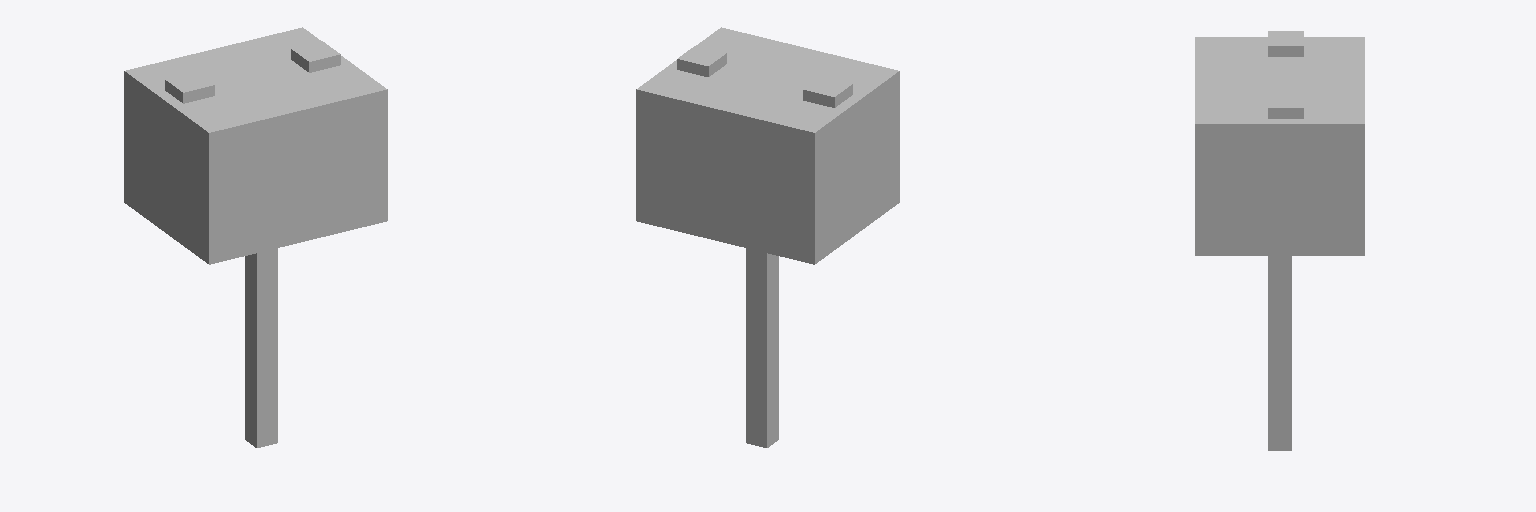
The model's file is pa_batt_on_stick.obj.
3 views of the same model, side by side, from view 1: azimuth 30°, elevation 25°; view 2: azimuth 150°, elevation 25°; view 3: azimuth 270°, elevation 25° (orthographic).
Visible parts, largest first — view 1: battery, stick, cube; view 2: battery, stick, cube; view 3: battery, stick, cube.
Boxes of the visible parts, x1,y1,x2,y2 form: battery: [124, 27, 387, 264]; stick: [245, 248, 277, 447]; cube: [165, 41, 340, 103]; battery: [636, 27, 899, 264]; stick: [746, 248, 778, 447]; cube: [677, 46, 852, 107]; battery: [1195, 37, 1364, 255]; stick: [1268, 256, 1291, 450]; cube: [1268, 31, 1303, 118].
Size of the model in its own units: 1.06 by 2.12 by 0.875.